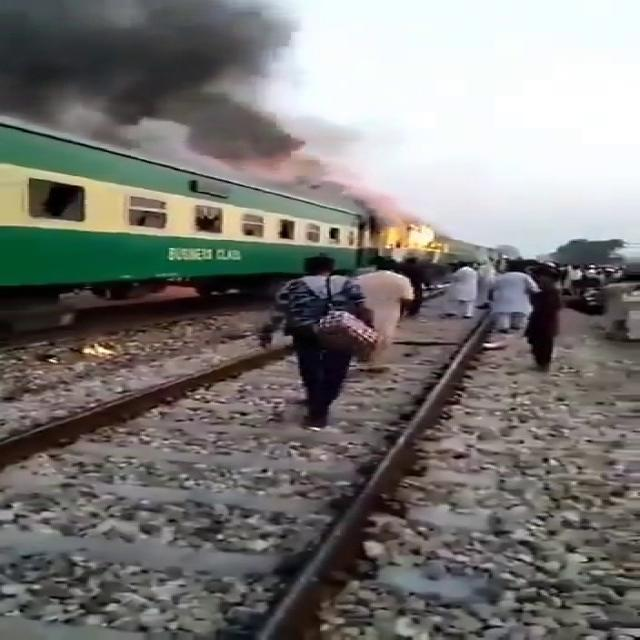Fire: (384, 223, 453, 256)
Smoke: (0, 20, 376, 205)
